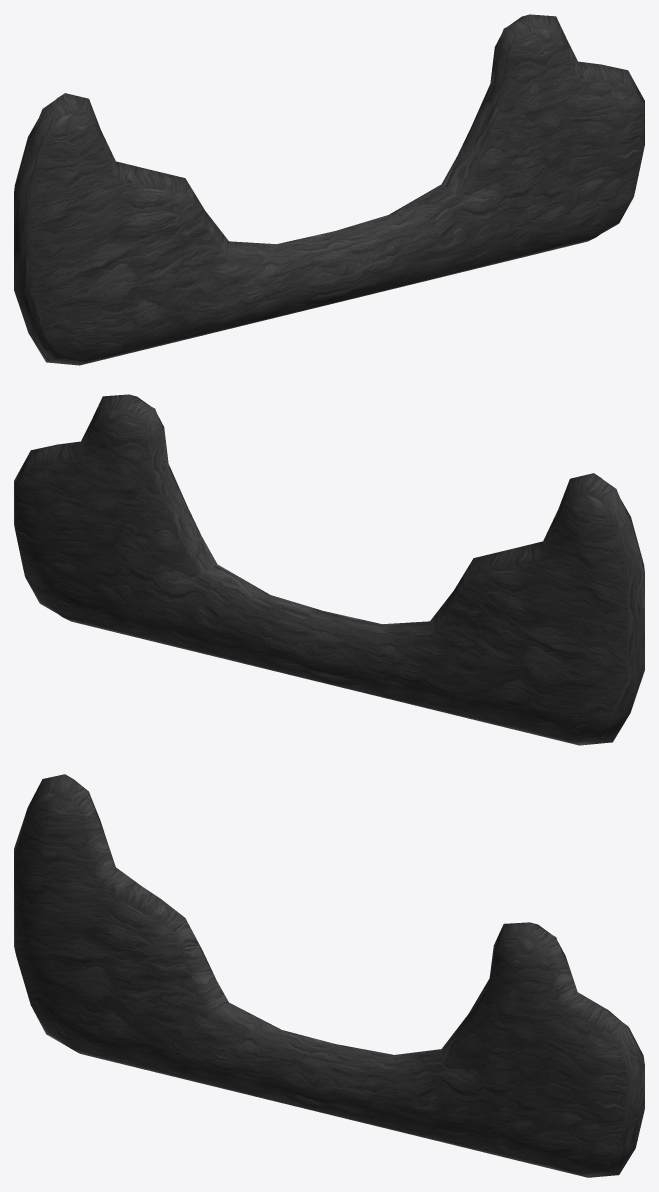
The model's file is RuinWallTwo3Shape.dae.
3 renders of one model, top to bottom at view 1: azimuth 30°, elevation 25°; view 2: azimuth 150°, elevation 25°; view 3: azimuth 330°, elevation 25°, orthographic.
Visible parts, largest first — view 1: RuinWallTwo3; view 2: RuinWallTwo3; view 3: RuinWallTwo3.
Boxes of the visible parts, box(x1,y1,x2,y2) form: RuinWallTwo3: box(14, 14, 644, 365); RuinWallTwo3: box(14, 394, 644, 745); RuinWallTwo3: box(14, 774, 644, 1177).
Bounding box in the file's own units: 47.54 × 19.87 × 4.71.
